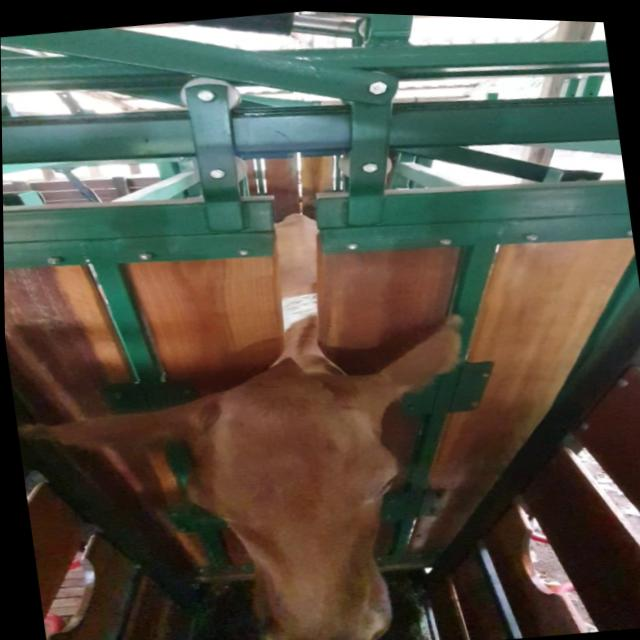cowFace: (167, 355, 415, 640)
